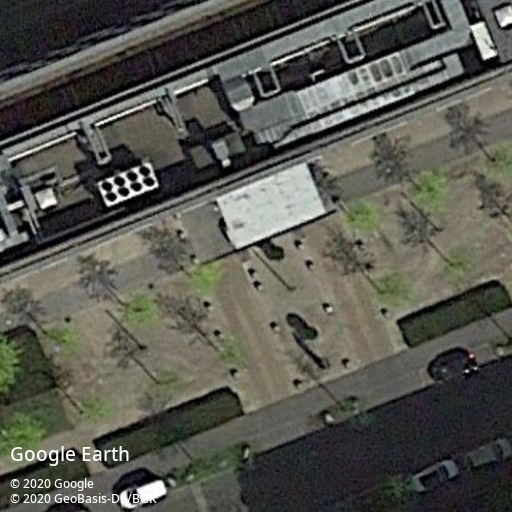Chiller: (96, 161, 160, 208)
